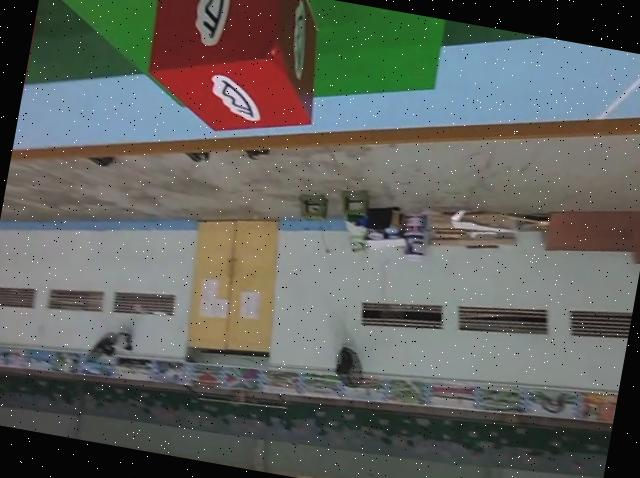R2 Real: (126, 0, 334, 149)
